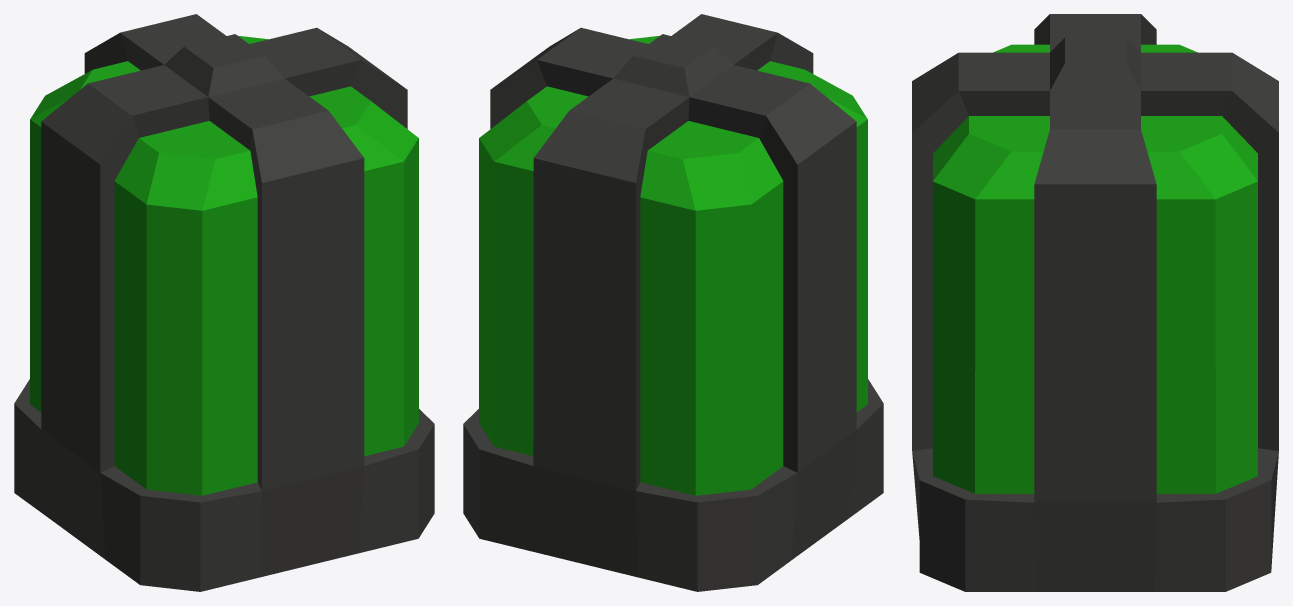
File: CapsuleSquare.fbx
3 renders of one model, left to right at view 1: azimuth 30°, elevation 25°; view 2: azimuth 150°, elevation 25°; view 3: azimuth 270°, elevation 25°, orthographic. The views are drawn at different scales.
Visible parts, largest first — view 1: CapsuleSquare; view 2: CapsuleSquare; view 3: CapsuleSquare.
Boxes of the visible parts, left/top/right/bottom form: CapsuleSquare: left=14, top=14, right=434, bottom=591; CapsuleSquare: left=463, top=14, right=883, bottom=591; CapsuleSquare: left=912, top=14, right=1278, bottom=591.
Size of the model in its own units: 360 by 505 by 360.
